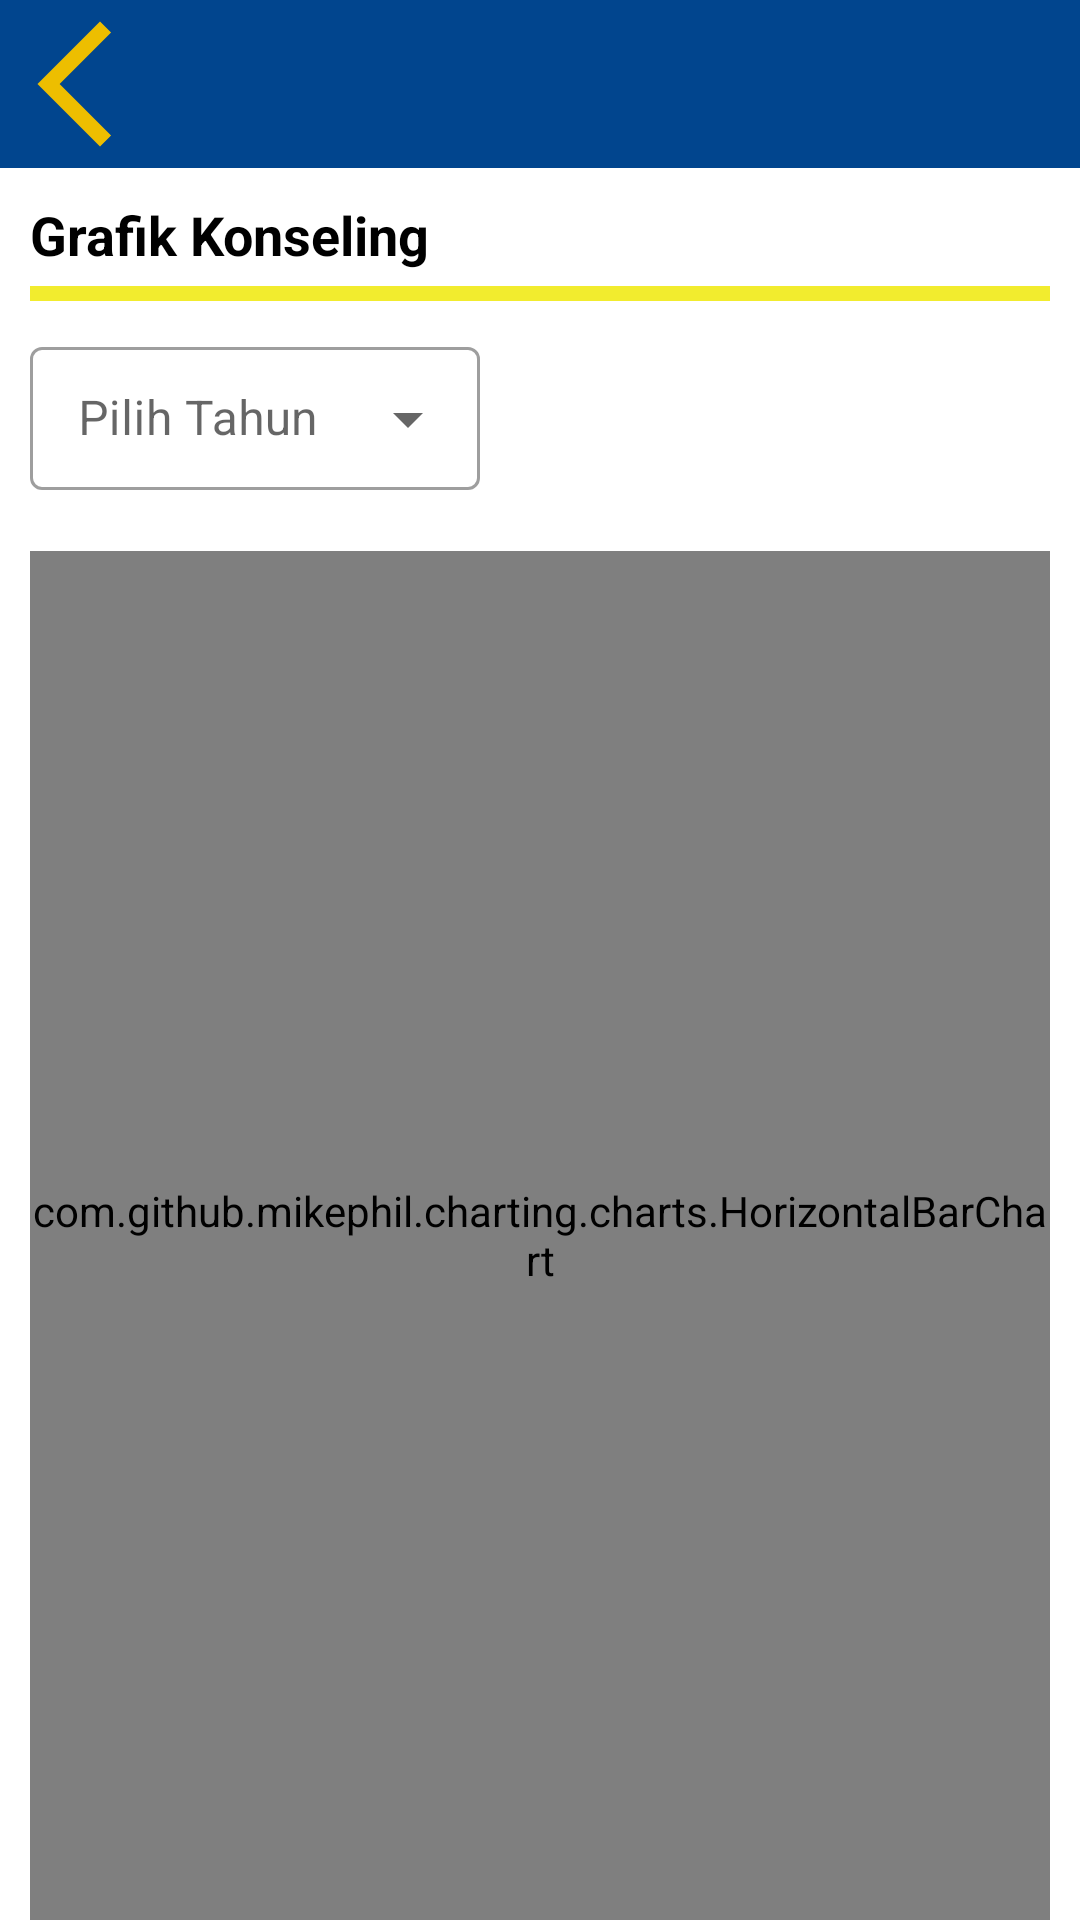

Named icons in this screenshot (1080x1920) and their bounding boxes, detection(x1, y1, x2, y2):
arrow back: detection(37, 21, 111, 147)
